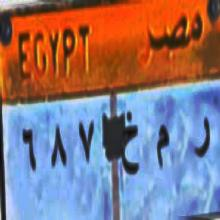6: (21, 120, 39, 182)
7: (77, 117, 96, 175)
8: (46, 119, 68, 178)
khaa: (116, 107, 140, 184)
meem: (154, 124, 170, 176)
raa: (195, 112, 210, 160)
